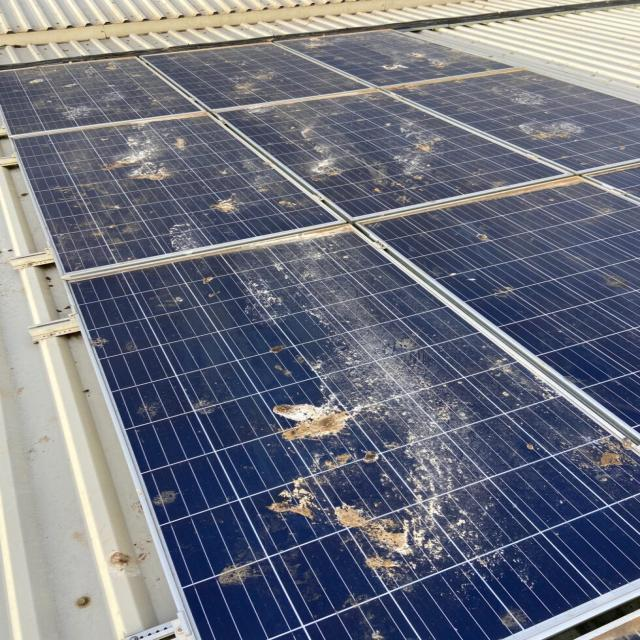Anomaly Solar Panel: (70, 229, 638, 638), (362, 177, 640, 434), (220, 48, 569, 236), (14, 78, 339, 279), (382, 68, 640, 173), (146, 29, 365, 114), (0, 55, 202, 137), (276, 29, 517, 88)
Surface Contaminant: (227, 343, 549, 614), (232, 60, 452, 207), (456, 340, 639, 497), (197, 142, 325, 227), (27, 54, 174, 124), (82, 116, 195, 191), (53, 179, 136, 263), (347, 22, 460, 77), (508, 98, 590, 155), (218, 47, 283, 99), (207, 550, 270, 595), (483, 74, 545, 110), (156, 208, 203, 255), (459, 215, 502, 253), (146, 480, 187, 515), (580, 198, 624, 230), (184, 390, 223, 421)
